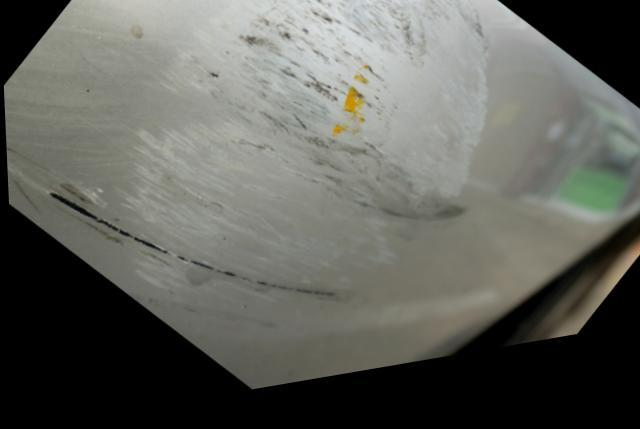scratch: (3, 0, 501, 338)
